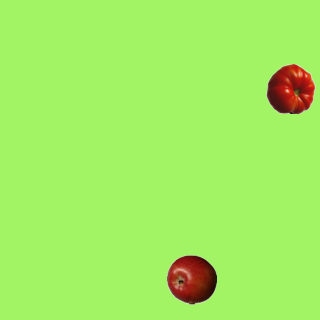Apple Braeburn: (166, 254, 216, 304)
Tomato 3: (265, 63, 315, 113)
